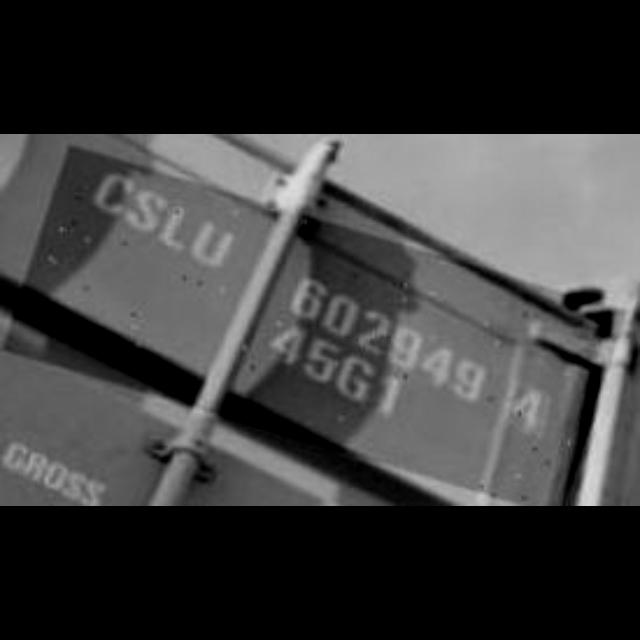0: (325, 290, 363, 338)
1: (371, 370, 409, 424)
2: (355, 307, 395, 358)
4: (506, 385, 550, 435), (418, 342, 458, 390), (268, 323, 308, 371)
5: (301, 338, 343, 386)
6: (292, 270, 328, 326)
9: (450, 353, 492, 405), (387, 322, 428, 372)
c: (91, 167, 139, 215)
g: (338, 357, 378, 408), (1, 440, 32, 472)
l: (158, 207, 192, 256)
o: (45, 461, 73, 493)
r: (22, 451, 52, 484)
s: (126, 186, 170, 234), (80, 480, 116, 506), (62, 472, 92, 502)
u: (189, 213, 239, 274)
